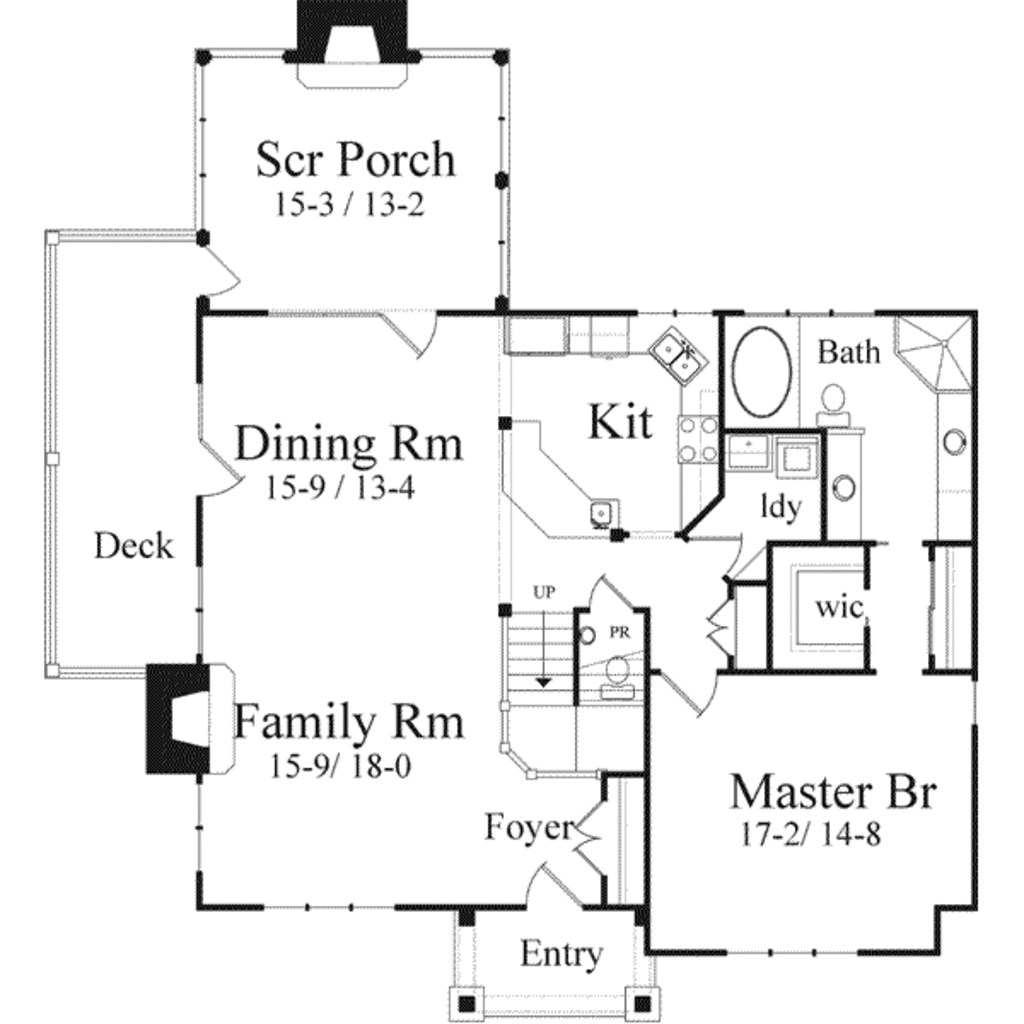door: (370, 303, 449, 370), (554, 795, 613, 879), (508, 860, 586, 914), (657, 668, 735, 719), (187, 239, 243, 306), (191, 436, 243, 498), (703, 593, 746, 665), (686, 528, 743, 582), (584, 563, 635, 616)
large_sink: (816, 371, 865, 438), (589, 657, 635, 709)
small_sink: (933, 406, 975, 471), (822, 463, 860, 519)
stairs: (511, 605, 649, 785)
tub: (719, 311, 808, 433)
twin_sink: (627, 320, 710, 389)
window: (735, 939, 857, 966), (268, 897, 395, 920)
